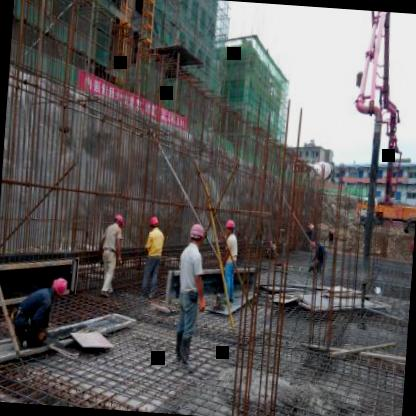helmet: (50, 274, 68, 298), (188, 220, 204, 246), (112, 212, 126, 229), (224, 218, 236, 236), (149, 216, 160, 230)
